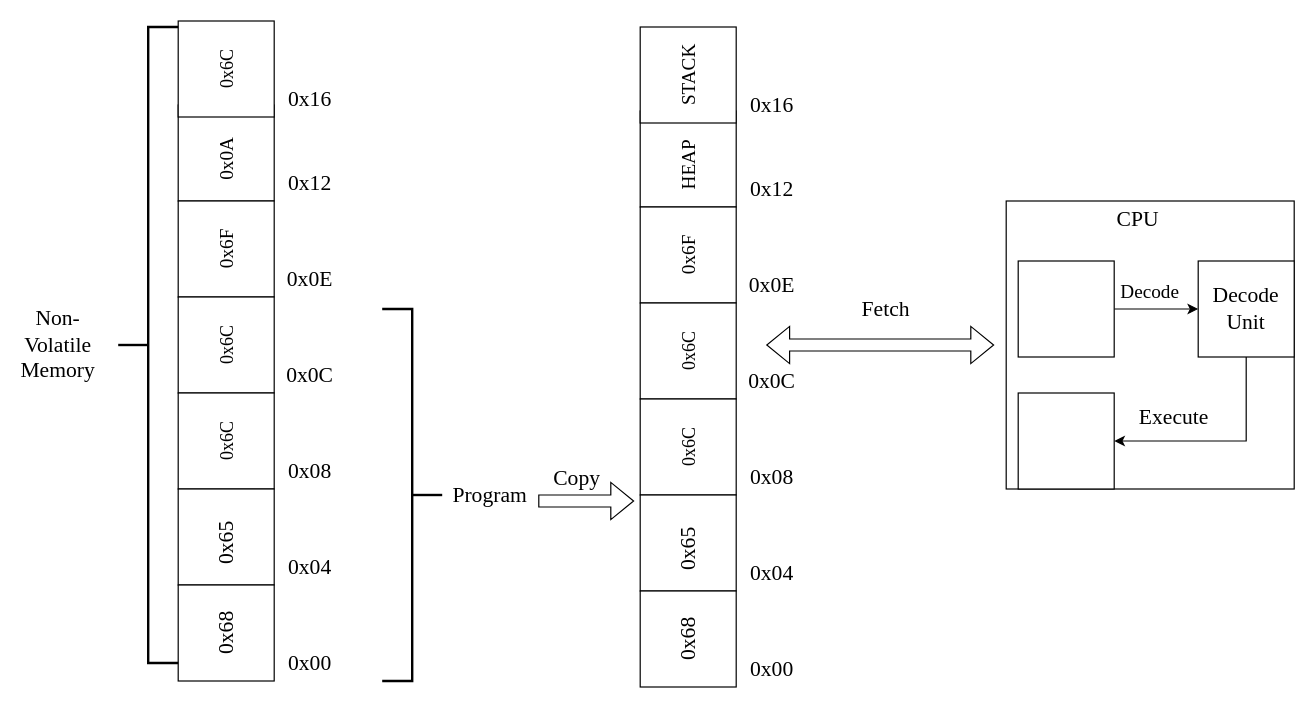
The diagram is 1315 pixels wide and 708 high, and some of its shapes have lost their labels. The shapes that lost their labels are listed below. From the top down, each one's centre as x and y in pixels, then its label:
At point (1065, 308): "PC = 0x0".
At point (1065, 440): "ALU".
